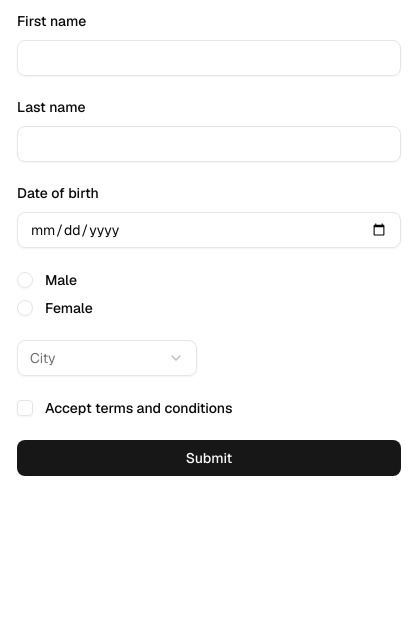
it: Person › Cities
The width and height of the screenshot is (418, 622).
expect the option "london" is not shown: met
expect the option "paris" is not shown: met
Click the dropdown.
click(107, 358)  # box [17,340,197,376]
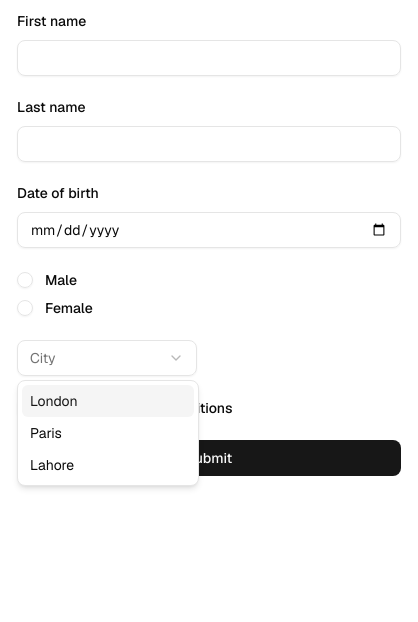
expect the list with test id "select-content" is shown: met, box [17,380,199,486]
expect the option "London" is shown: met
expect the option "Paris" is shown: met, box [30,424,62,442]
Click the option "London".
click(108, 401)  # box [22,385,194,417]
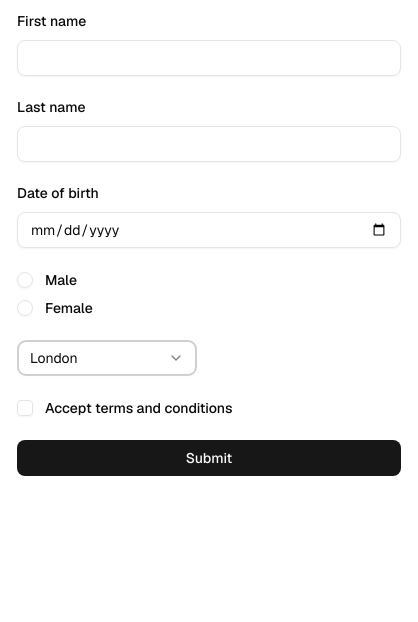
expect the dropdown reads "London": met, box [17,340,197,376]
expect the option "Paris" is gone: met
expect the option "Lahore" is gone: met
